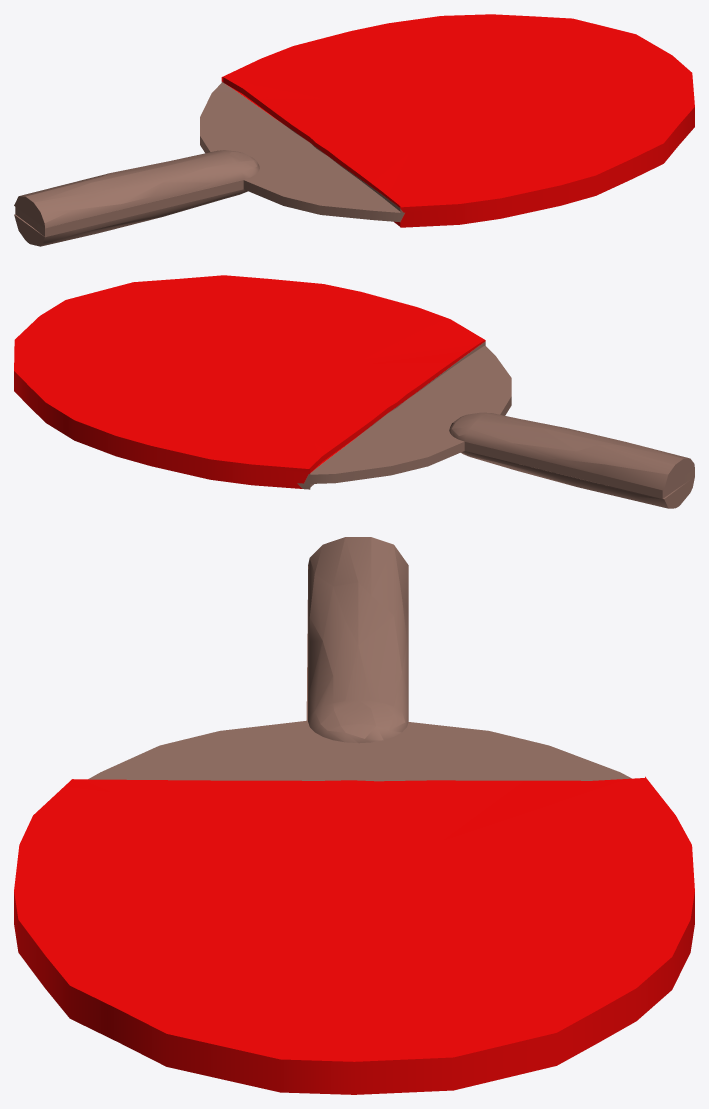
Rendered from Raqueta.obj.
3 renders of one model, top to bottom at view 1: azimuth 30°, elevation 25°; view 2: azimuth 150°, elevation 25°; view 3: azimuth 270°, elevation 25°, orthographic. The views are drawn at different scales.
Visible parts, largest first — view 1: Capsule003; view 2: Capsule003; view 3: Capsule003.
Part boxes in pixels (x1,y1,x2,y2): Capsule003: [14, 14, 694, 246]; Capsule003: [14, 275, 694, 508]; Capsule003: [14, 537, 694, 1094].
Bounding box in the file's own units: 3.61 × 0.2546 × 2.05.
Materials: 1 (1 with a texture image).
